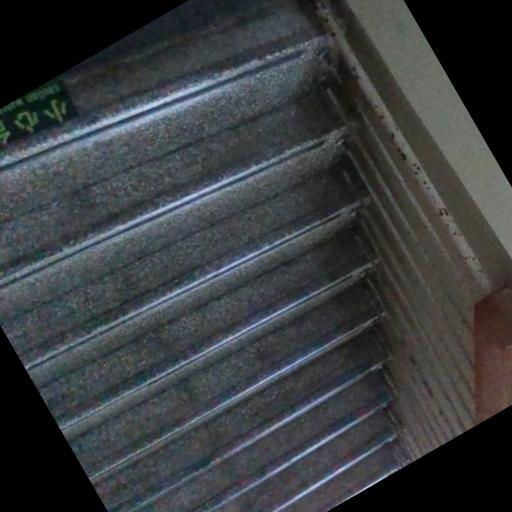stairs: (0, 0, 394, 511)
